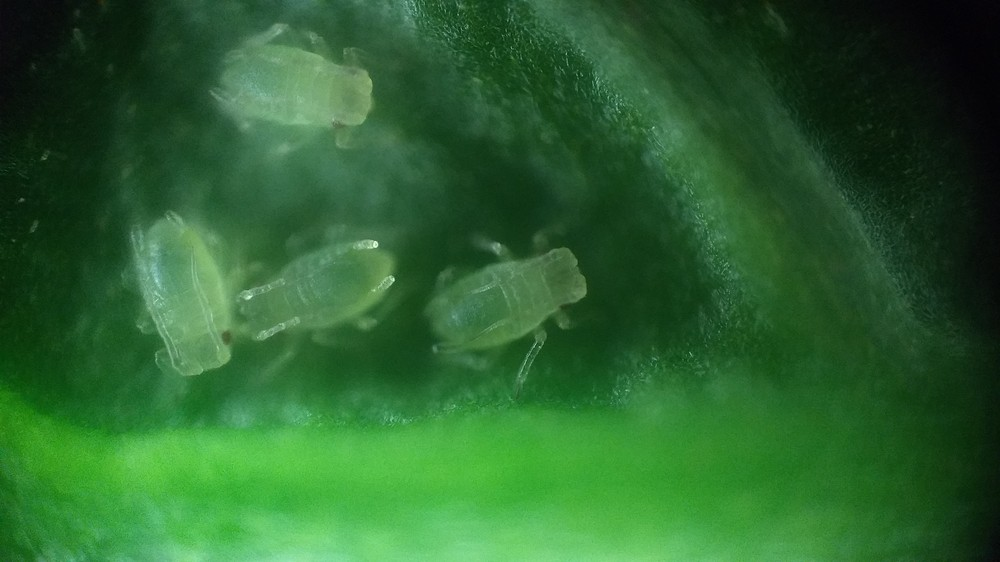Pulgon: (409, 211, 624, 406), (201, 13, 420, 168), (231, 209, 417, 378), (106, 204, 250, 388)
